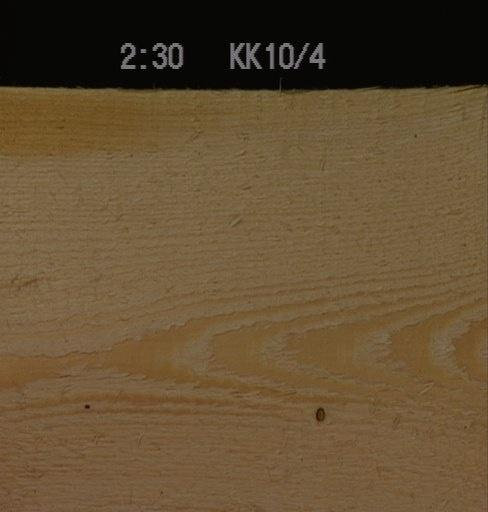dry_knot: (312, 402, 327, 427)
